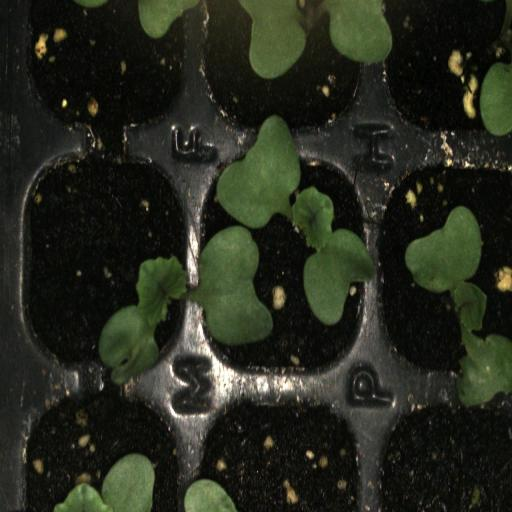Folha: (53, 453, 155, 512), (239, 0, 308, 80), (324, 0, 393, 66), (138, 0, 207, 50), (480, 62, 512, 137), (183, 479, 237, 512)
Germinacao: (12, 146, 197, 390), (197, 144, 374, 387), (374, 143, 512, 388)
